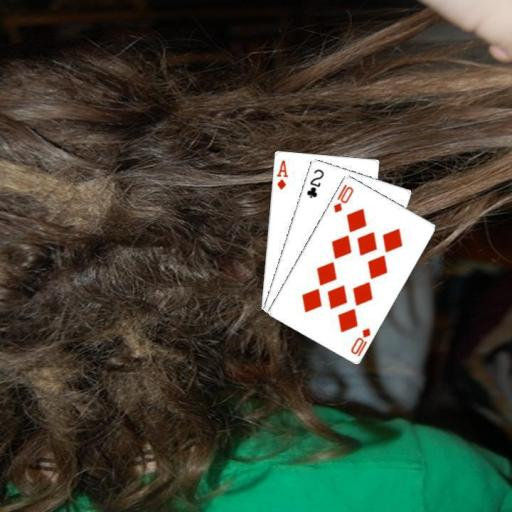card-corner: (347, 324, 372, 358), (330, 181, 355, 214), (304, 166, 325, 199), (273, 157, 289, 191)
